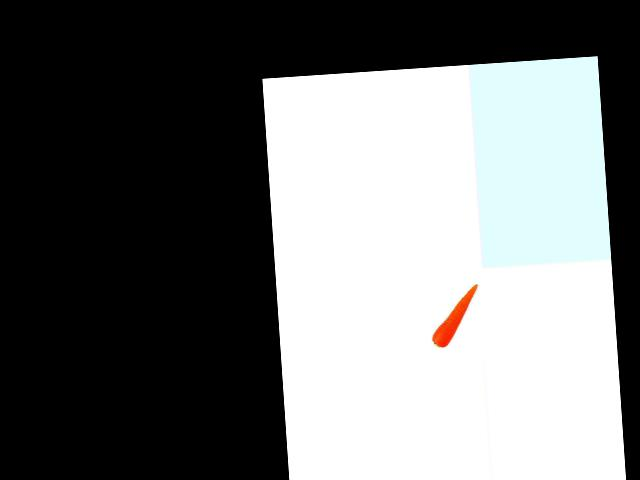carrot: (428, 280, 485, 349)
